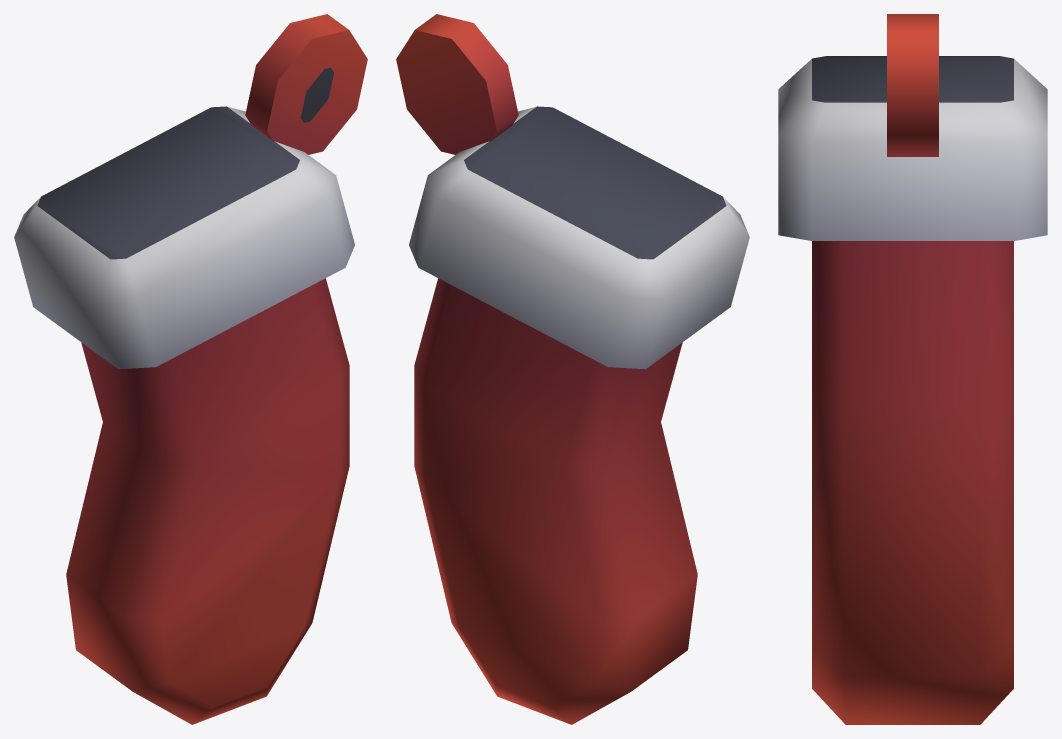
The model's file is sock-red.glb.
3 views of the same model, side by side, from view 1: azimuth 30°, elevation 25°; view 2: azimuth 150°, elevation 25°; view 3: azimuth 270°, elevation 25° (orthographic). The views are drawn at different scales.
Visible parts, largest first — view 1: sock-red; view 2: sock-red; view 3: sock-red.
Boxes of the visible parts, bbox=[...] form: sock-red: bbox=[14, 14, 367, 724]; sock-red: bbox=[396, 14, 749, 724]; sock-red: bbox=[778, 14, 1047, 724].
Size of the model in its own units: 0.3061 by 0.6229 by 0.2.
